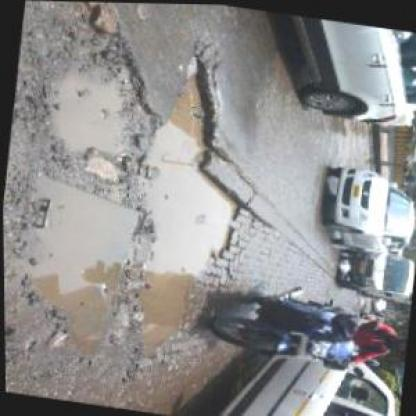pothole: (125, 43, 269, 363), (8, 169, 151, 365), (40, 42, 165, 173)
